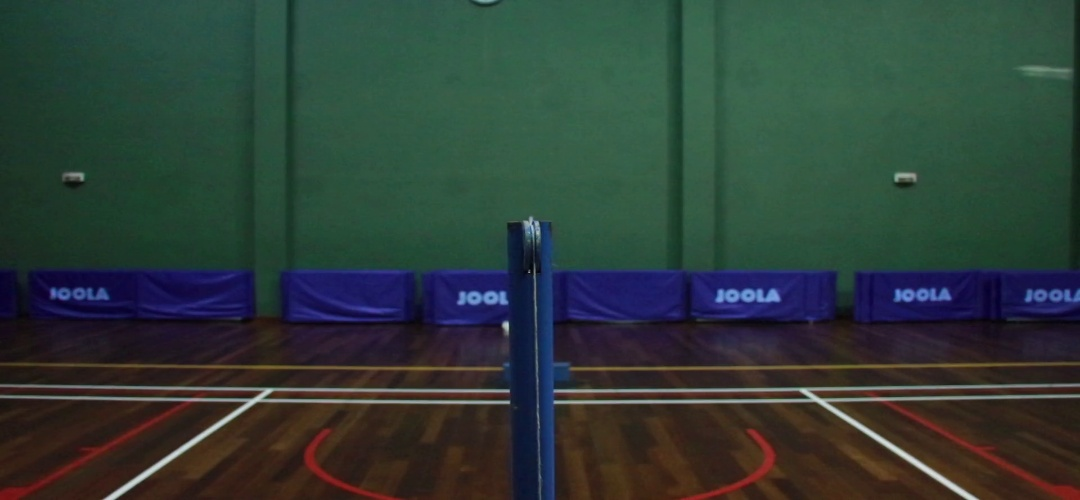c1: (241, 394, 275, 412)
c2: (799, 393, 838, 412)
net_level: (508, 222, 555, 283)
shuttle: (1014, 61, 1080, 83)
